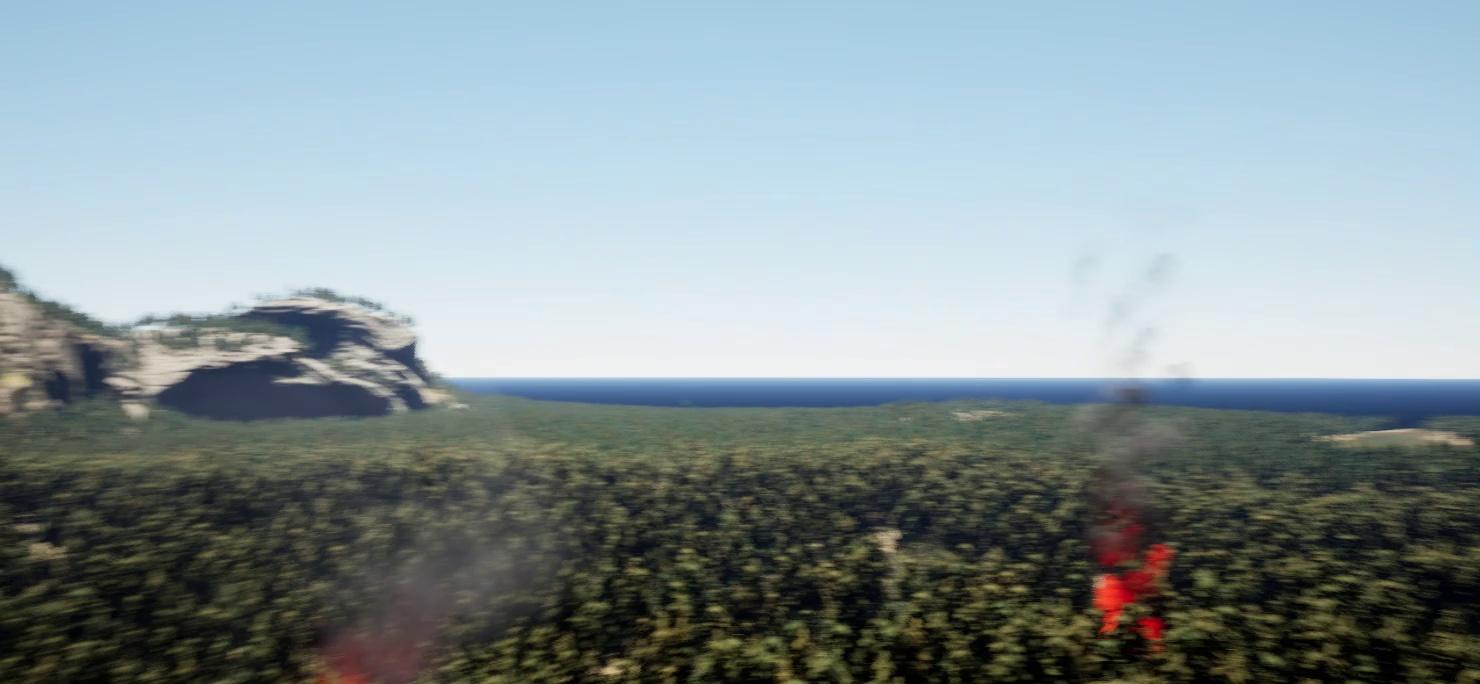fire: (1083, 540, 1183, 645)
smoke: (283, 409, 589, 683), (1068, 242, 1201, 524)
